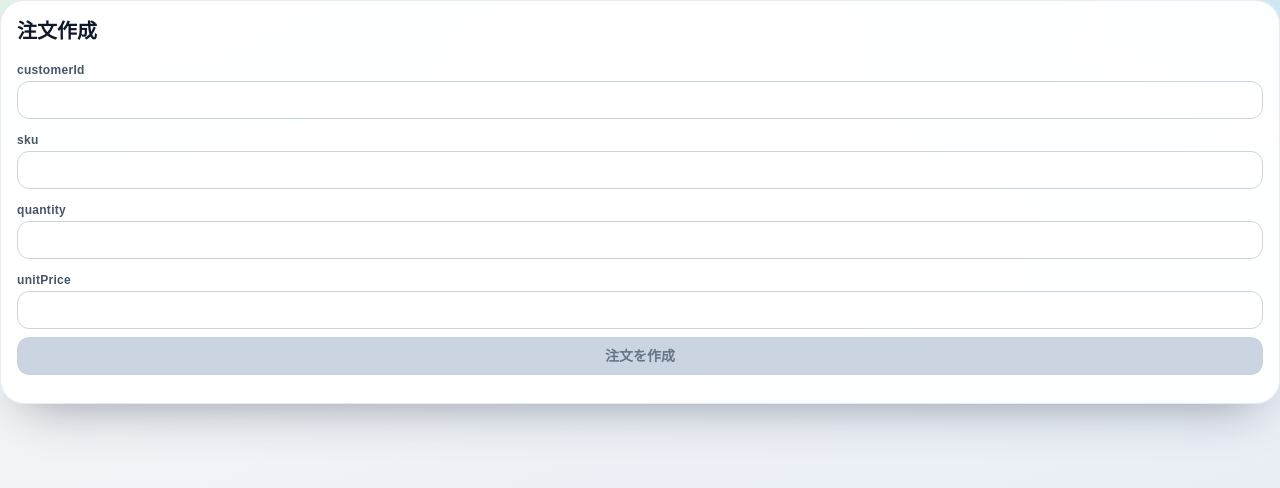
Test case: OrderCreateForm › 400のとき入力エラーを表示する
Step 1. Type "c-1" into the field labelled "customerId" → (640, 100), box top-left (17, 81), bottom-right (1263, 119)
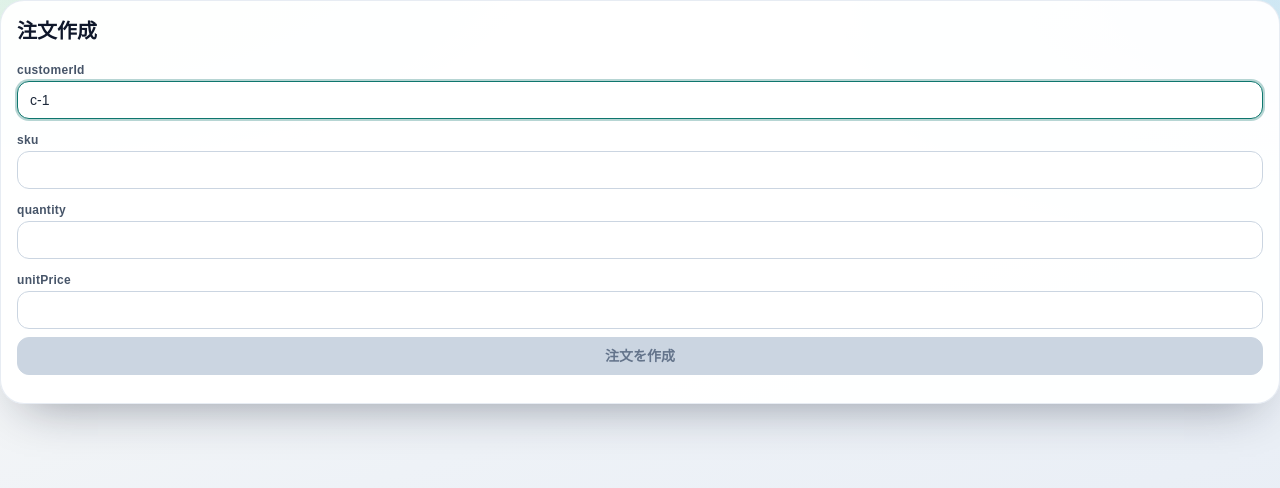
Step 2. Type "sku-1" into the field labelled "sku" → (640, 170), box top-left (17, 151), bottom-right (1263, 189)
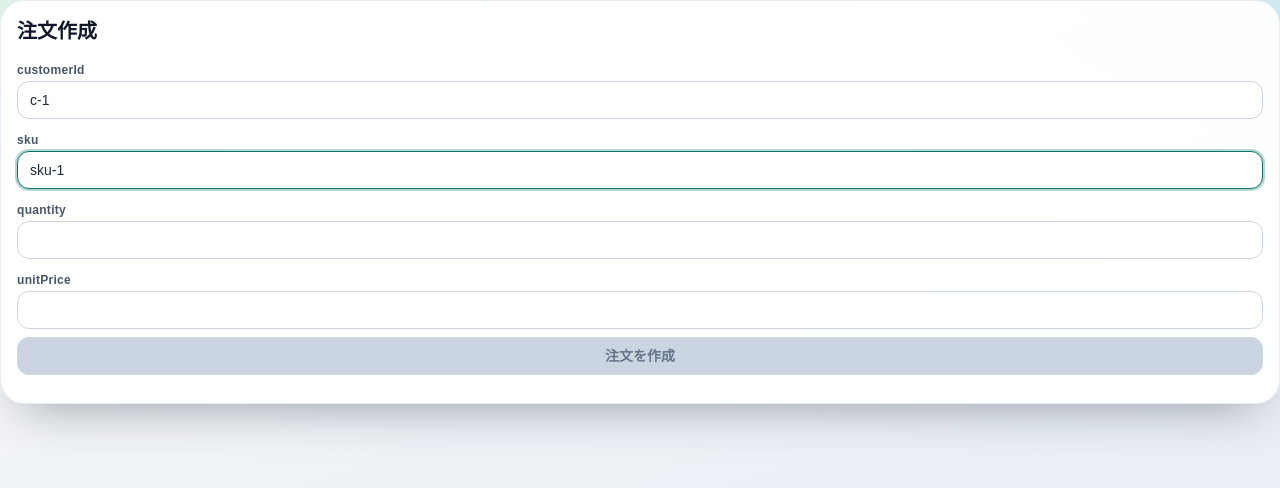
Step 3. Type "1" into the number field labelled "quantity" → (640, 240), box top-left (17, 221), bottom-right (1263, 259)
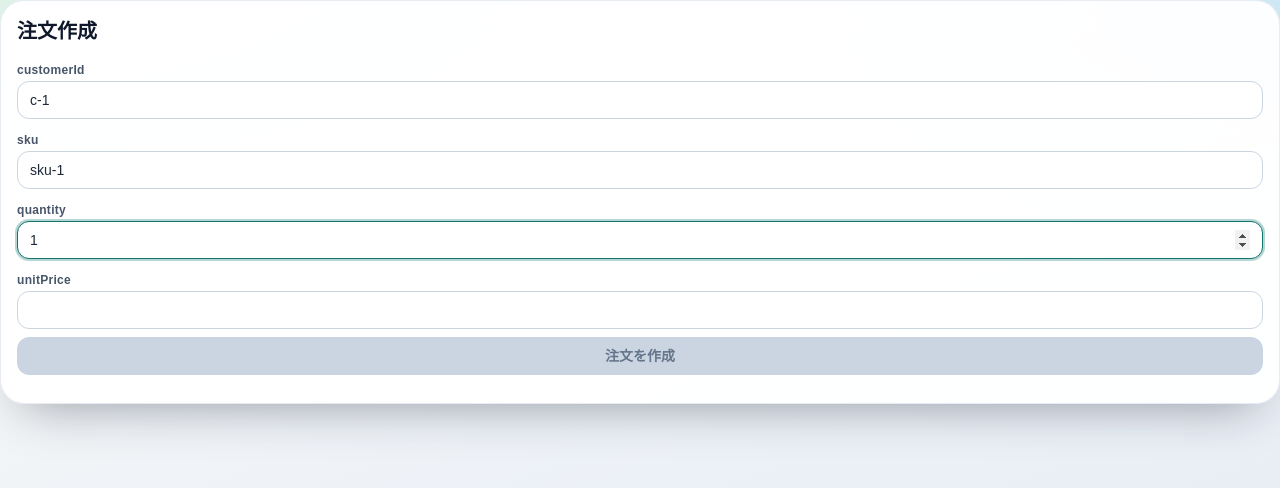
Step 4. Type "100" into the number field labelled "unitPrice" → (640, 310), box top-left (17, 291), bottom-right (1263, 329)
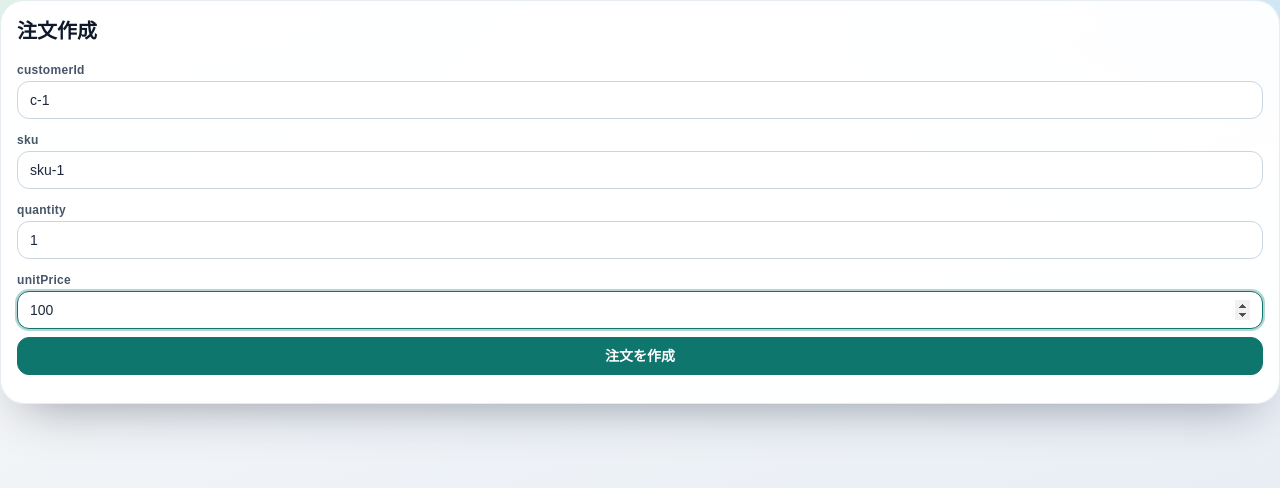
Step 5. Click the button "注文を作成" → (640, 356), box top-left (17, 337), bottom-right (1263, 375)
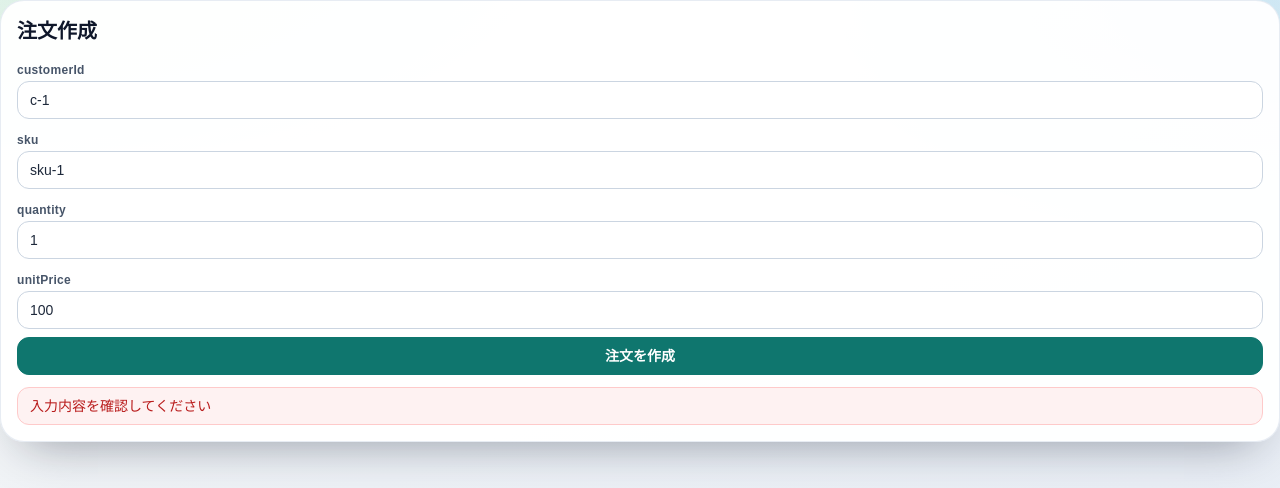
Check: the text "入力内容を確認してください" is shown, box top-left (17, 387), bottom-right (1263, 425)
